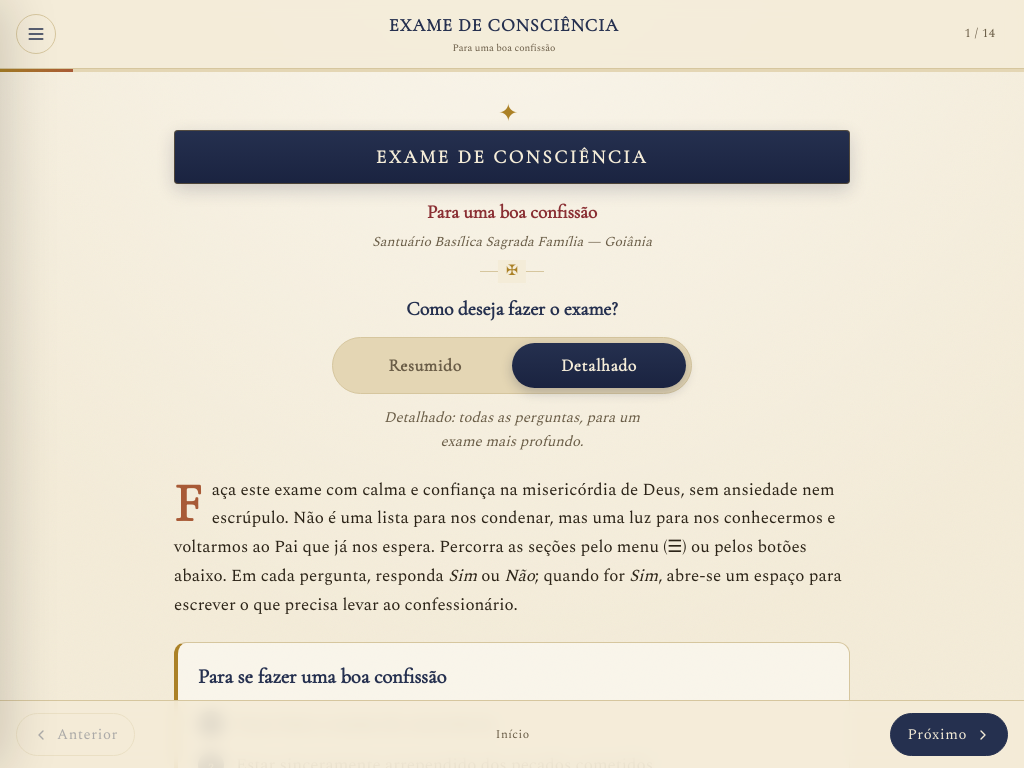
Test: App › marcar a resposta relevante abre o campo de anotação
This screenshot has width=1024, height=768.
Click the button named "Abrir índice" at (36, 34), box [16,14,56,54]
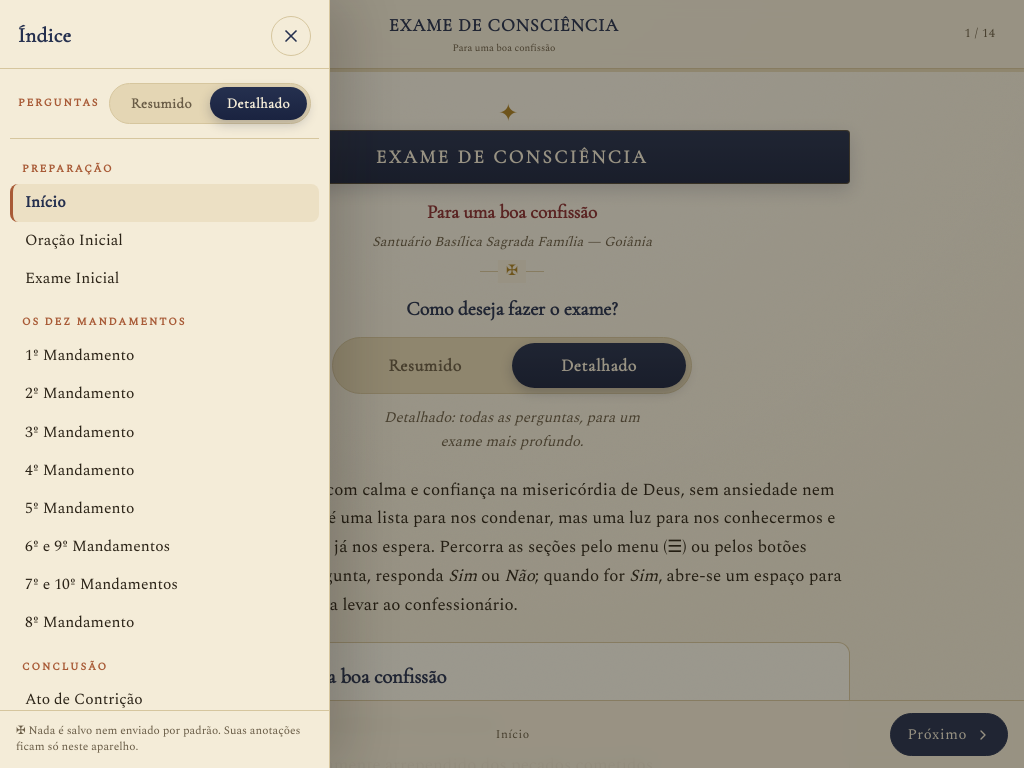
Click the button "Exame Inicial" at (72, 279), box [10,260,319,298]
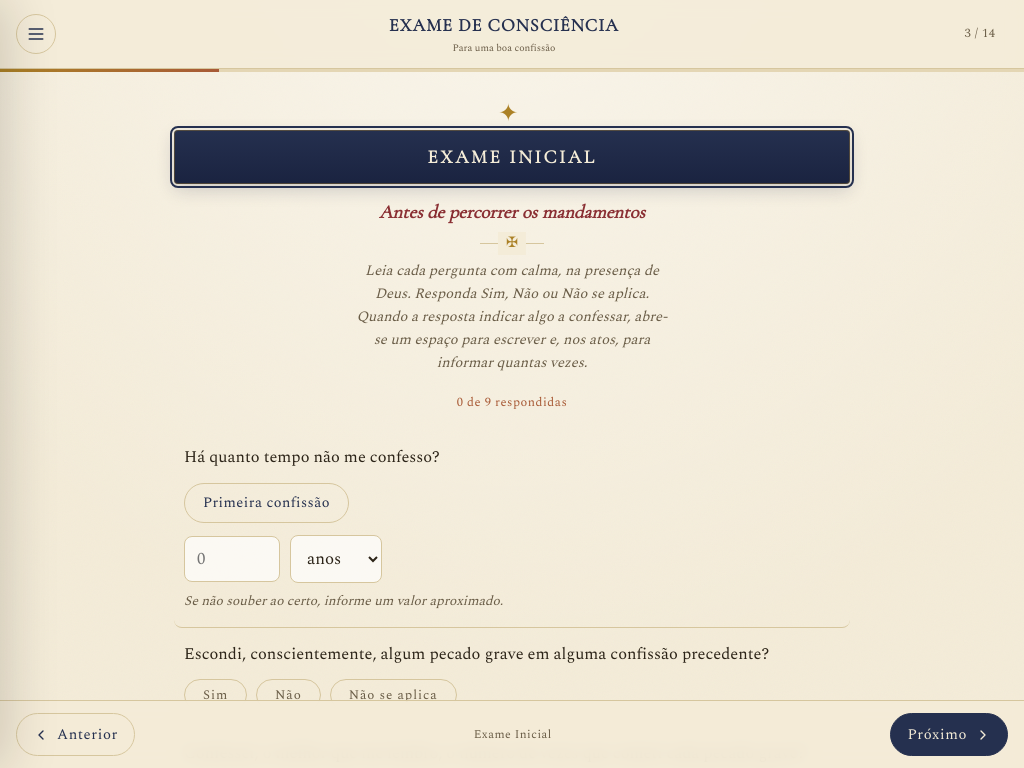
Note: A 1ª pergunta com botões ("Escondi…") tem polaridade Sim.
Click the button "Sim" at (216, 695), box [184,679,247,711]
(page scrolled)
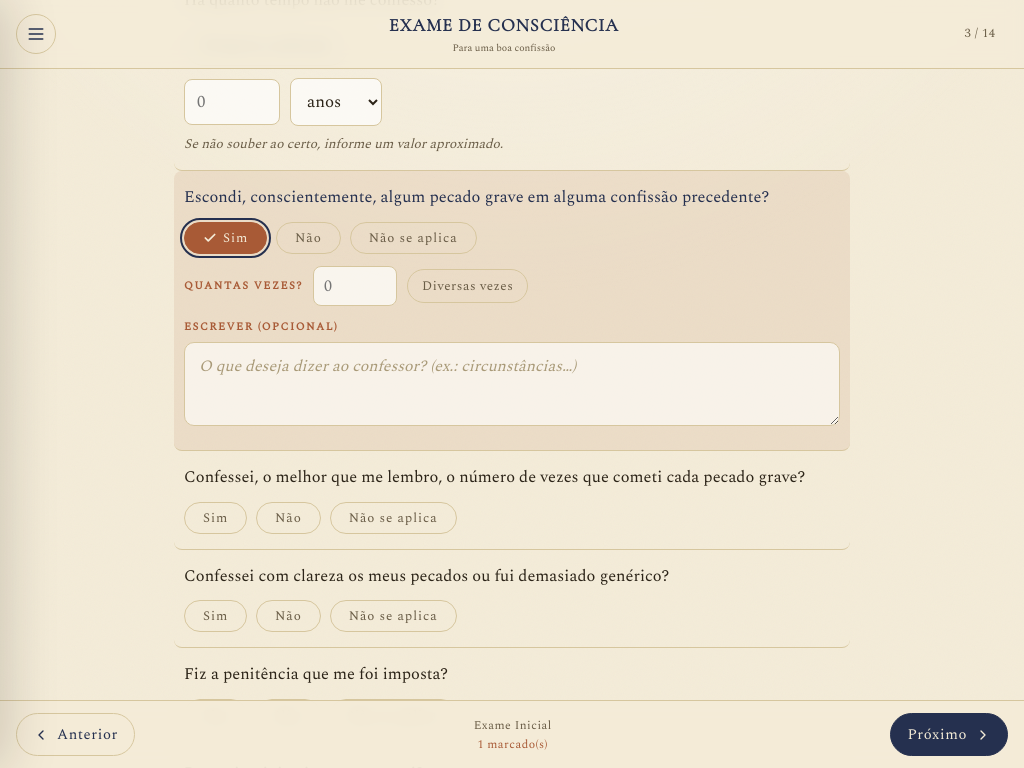
Check: the text box with placeholder "O que deseja dizer ao confessor? (ex.: circunstâncias…)" is shown, box [184,342,840,426]
